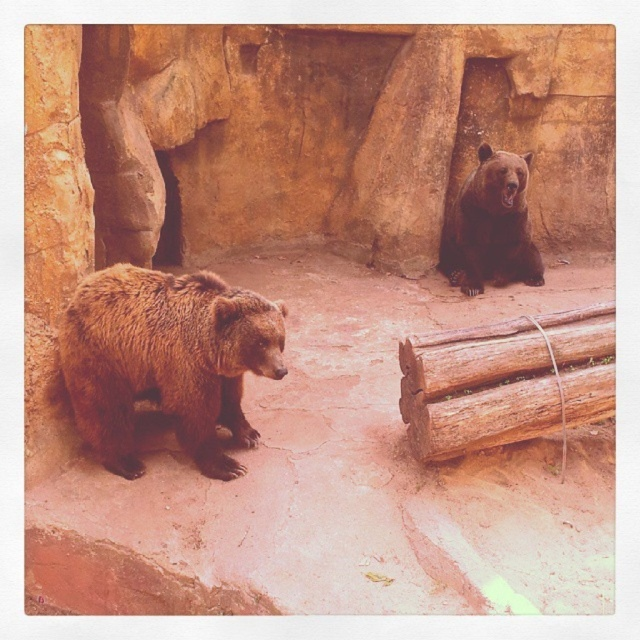Brown bear: (55, 261, 291, 483), (440, 138, 545, 297)
